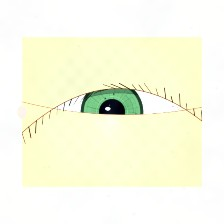pterygium_lesion: (163, 97, 201, 127)
